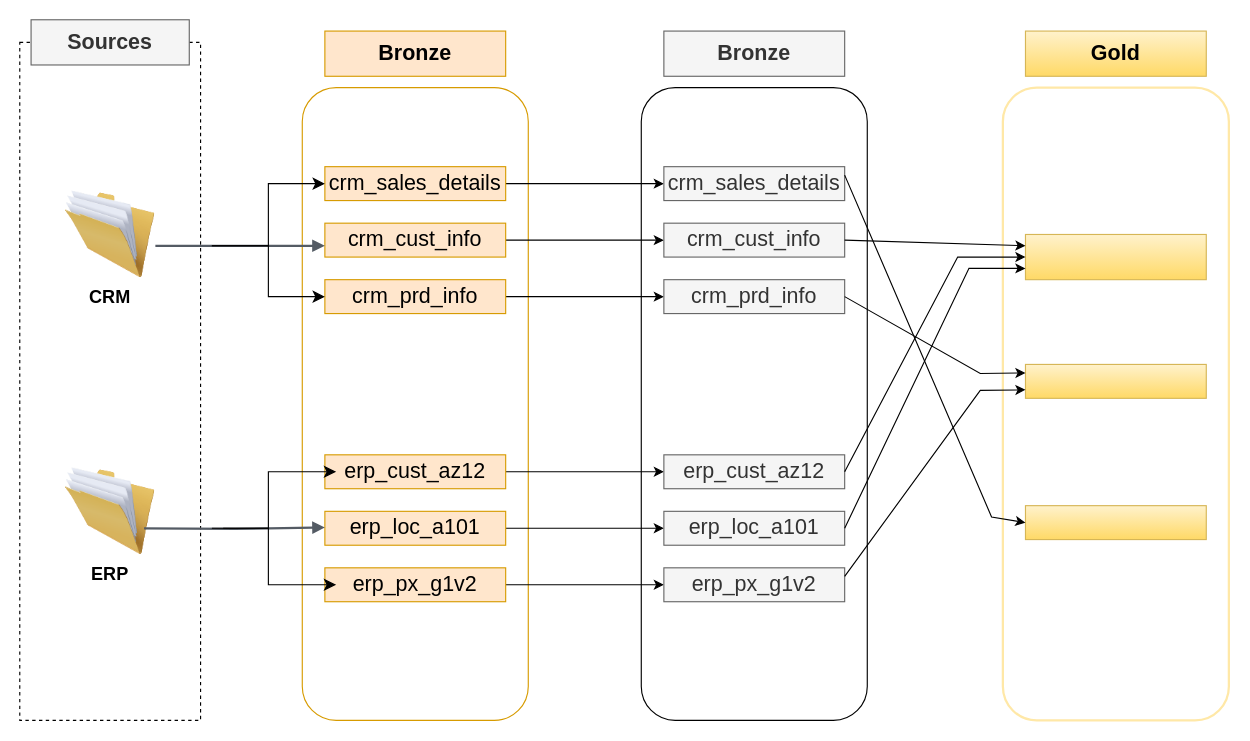
Image size: 1250x741. Some labels were removed from this diagram. Each missing label, with the centre of its shape:
dim_customers: point 1115,256
dim_products: point 1115,380
fact_sales: point 1115,522
